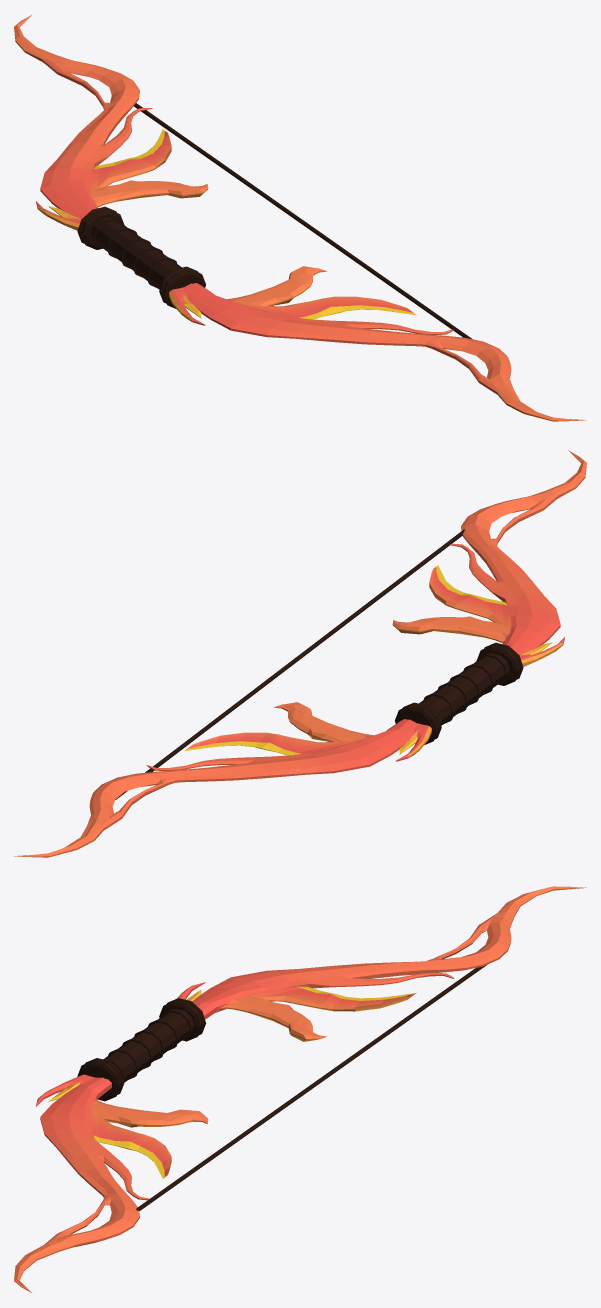
The model's file is 2Tier_Bow_fix.fbx.
3 renders of one model, top to bottom at view 1: azimuth 30°, elevation 25°; view 2: azimuth 150°, elevation 25°; view 3: azimuth 330°, elevation 25°, orthographic.
Parts seen in each view (by area): view 1: bow; view 2: bow; view 3: bow.
Part boxes in pixels (left/top/right/bottom): bow: left=14, top=14, right=586, bottom=421; bow: left=14, top=450, right=586, bottom=857; bow: left=14, top=886, right=586, bottom=1292.
Bounding box in the file's own units: 17.62 × 3.08 × 83.88.
Materials: 2 (2 with a texture image).
